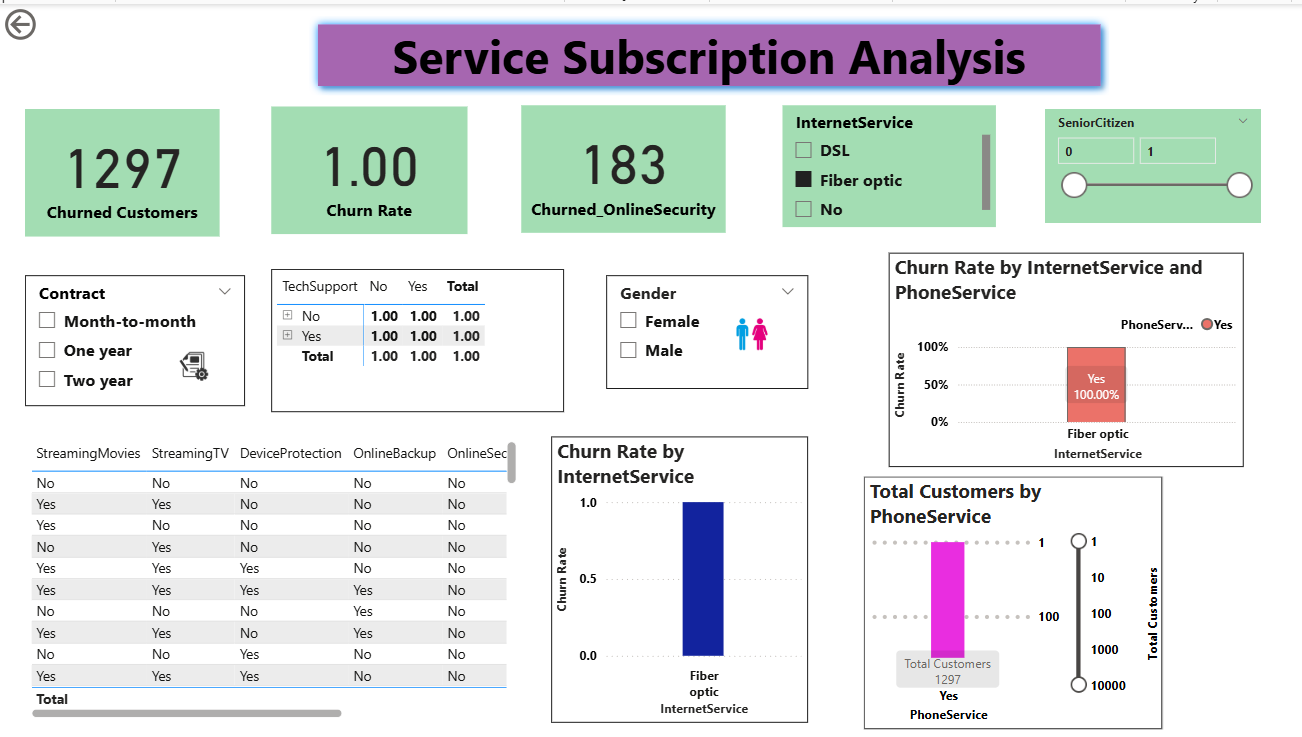

Layout of this report page (visuals, bound fields, positions):
{"tool":"powerbi","page":{"name":"Service Subscription Analysis","canvas":[1280,720],"ordinal":1},"visuals":[{"type":"columnChart","fields":{"Category":["WA_Fn-UseC_-Telco-Customer-Churn.PhoneService"],"Y":["WA_Fn-UseC_-Telco-Customer-Churn.Total Customers"]},"box":[845.3,462.4,292.3,247],"z":0},{"type":"clusteredColumnChart","fields":{"Category":["WA_Fn-UseC_-Telco-Customer-Churn.InternetService"],"Y":["WA_Fn-UseC_-Telco-Customer-Churn.Churn Rate"]},"box":[539.3,422.6,251.1,279.9],"z":1000},{"type":"hundredPercentStackedColumnChart","fields":{"Category":["WA_Fn-UseC_-Telco-Customer-Churn.InternetService"],"Y":["WA_Fn-UseC_-Telco-Customer-Churn.Churn Rate"],"Series":["WA_Fn-UseC_-Telco-Customer-Churn.PhoneService"]},"box":[870,242.9,347.2,209.9],"z":2000},{"type":"actionButton","box":[0,0,100,40],"z":3000},{"type":"card","fields":{"Values":["WA_Fn-UseC_-Telco-Customer-Churn.Churned Customers"]},"box":[24.7,102.9,190.7,124.9],"z":4000},{"type":"card","fields":{"Values":["WA_Fn-UseC_-Telco-Customer-Churn.Churn Rate"]},"box":[264.8,100.2,192.1,124.9],"z":5000},{"type":"slicer","fields":{"Values":["WA_Fn-UseC_-Telco-Customer-Churn.Contract"]},"box":[24.7,264.8,215.4,127.6],"z":6000},{"type":"slicer","fields":{"Values":["WA_Fn-UseC_-Telco-Customer-Churn.SeniorCitizen"]},"box":[1022.3,102.9,211.3,111.1],"z":7000},{"type":"slicer","fields":{"Values":["WA_Fn-UseC_-Telco-Customer-Churn.gender"]},"box":[592.8,264.8,197.6,111.1],"z":8000},{"type":"pivotTable","fields":{"Rows":["WA_Fn-UseC_-Telco-Customer-Churn.TechSupport","WA_Fn-UseC_-Telco-Customer-Churn.InternetService"],"Columns":["WA_Fn-UseC_-Telco-Customer-Churn.OnlineSecurity"],"Values":["WA_Fn-UseC_-Telco-Customer-Churn.Churn Rate"]},"box":[264.8,259.3,286.8,140],"z":9000},{"type":"shape","box":[301.9,11,783.5,78.2],"z":10000},{"type":"slicer","fields":{"Values":["WA_Fn-UseC_-Telco-Customer-Churn.InternetService"]},"box":[765.7,98.8,208.6,119.4],"z":11000},{"type":"card","fields":{"Values":["WA_Fn-UseC_-Telco-Customer-Churn.Churned_OnlineSecurity"]},"box":[510.5,98.8,200.3,124.9],"z":12000},{"type":"image","box":[150.9,321.1,78.2,65.9],"z":13000},{"type":"image","box":[710.8,292.3,50.8,61.7],"z":14000},{"type":"tableEx","fields":{"Values":["WA_Fn-UseC_-Telco-Customer-Churn.StreamingMovies","WA_Fn-UseC_-Telco-Customer-Churn.StreamingTV","WA_Fn-UseC_-Telco-Customer-Churn.DeviceProtection","WA_Fn-UseC_-Telco-Customer-Churn.OnlineBackup","WA_Fn-UseC_-Telco-Customer-Churn.OnlineSecurity","WA_Fn-UseC_-Telco-Customer-Churn.TechSupport","WA_Fn-UseC_-Telco-Customer-Churn.Churned Customers"]},"box":[24.5,423.1,485.5,280],"z":15000}]}

Visuals, with their boxes on the page's 1280x720 design canvas (x1, y1, x2, y2). These are canvas units, not pixel positions in the 1302x737 screenshot, which may show the page scaled, cropped or inside an application window:
columnChart - WA_Fn-UseC_-Telco-Customer-Churn.PhoneService x WA_Fn-UseC_-Telco-Customer-Churn.Total Customers: select_region(845, 462, 1138, 709)
clusteredColumnChart - WA_Fn-UseC_-Telco-Customer-Churn.InternetService x WA_Fn-UseC_-Telco-Customer-Churn.Churn Rate: select_region(539, 423, 790, 702)
hundredPercentStackedColumnChart - WA_Fn-UseC_-Telco-Customer-Churn.InternetService x WA_Fn-UseC_-Telco-Customer-Churn.Churn Rate: select_region(870, 243, 1217, 453)
actionButton: select_region(0, 0, 100, 40)
card - WA_Fn-UseC_-Telco-Customer-Churn.Churned Customers: select_region(25, 103, 215, 228)
card - WA_Fn-UseC_-Telco-Customer-Churn.Churn Rate: select_region(265, 100, 457, 225)
slicer - WA_Fn-UseC_-Telco-Customer-Churn.Contract: select_region(25, 265, 240, 392)
slicer - WA_Fn-UseC_-Telco-Customer-Churn.SeniorCitizen: select_region(1022, 103, 1234, 214)
slicer - WA_Fn-UseC_-Telco-Customer-Churn.gender: select_region(593, 265, 790, 376)
pivotTable - WA_Fn-UseC_-Telco-Customer-Churn.TechSupport x WA_Fn-UseC_-Telco-Customer-Churn.InternetService: select_region(265, 259, 552, 399)
shape: select_region(302, 11, 1085, 89)
slicer - WA_Fn-UseC_-Telco-Customer-Churn.InternetService: select_region(766, 99, 974, 218)
card - WA_Fn-UseC_-Telco-Customer-Churn.Churned_OnlineSecurity: select_region(510, 99, 711, 224)
image: select_region(151, 321, 229, 387)
image: select_region(711, 292, 762, 354)
tableEx - WA_Fn-UseC_-Telco-Customer-Churn.StreamingMovies x WA_Fn-UseC_-Telco-Customer-Churn.StreamingTV: select_region(24, 423, 510, 703)
